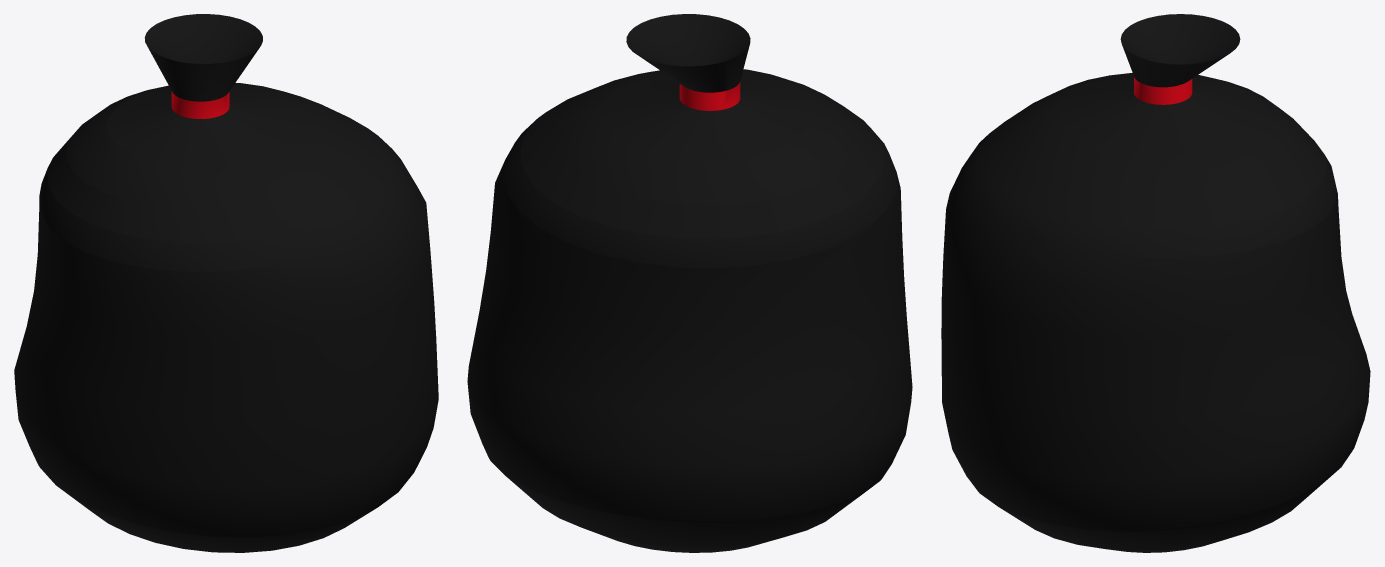
The model's file is TrashBag.fbx.
3 renders of one model, left to right at view 1: azimuth 30°, elevation 25°; view 2: azimuth 150°, elevation 25°; view 3: azimuth 270°, elevation 25°, orthographic. The views are drawn at different scales.
Visible parts, largest first — view 1: Trashbag; view 2: Trashbag; view 3: Trashbag.
Part boxes in pixels (left/top/right/bottom): Trashbag: left=14, top=14, right=438, bottom=552; Trashbag: left=467, top=14, right=912, bottom=552; Trashbag: left=941, top=14, right=1370, bottom=552.
Size of the model in its own units: 219 by 269 by 219.
